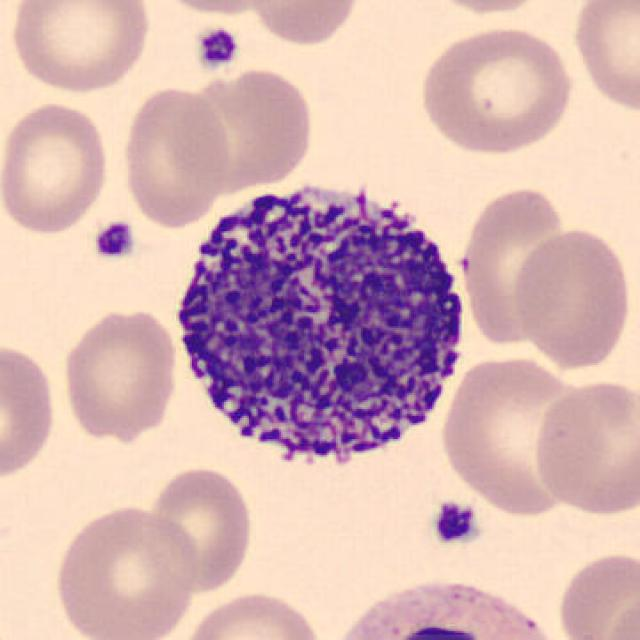basophil: (183, 179, 477, 462)
platelets: (74, 219, 148, 266), (187, 24, 251, 74), (432, 495, 482, 545)
rbc: (447, 352, 594, 515), (418, 26, 579, 157), (452, 185, 576, 338), (54, 510, 198, 633), (184, 66, 318, 192), (64, 308, 186, 444), (517, 228, 629, 376), (530, 370, 640, 513), (129, 83, 232, 234), (10, 0, 156, 97), (149, 464, 257, 594), (2, 103, 108, 233), (0, 335, 57, 477), (577, 0, 640, 121), (183, 586, 324, 640), (567, 547, 640, 640), (250, 0, 359, 50), (601, 596, 640, 640), (447, 0, 540, 18), (181, 0, 257, 19), (566, 595, 566, 601)
